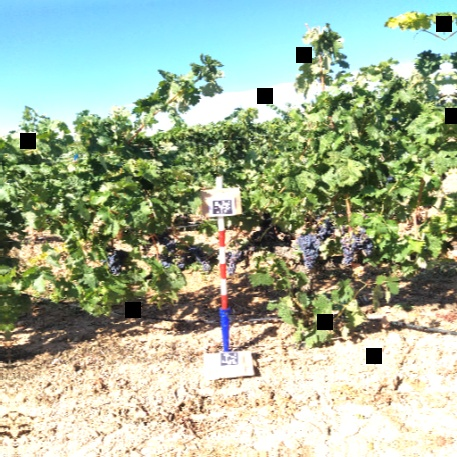QR: (211, 200, 233, 216), (217, 353, 240, 368)
